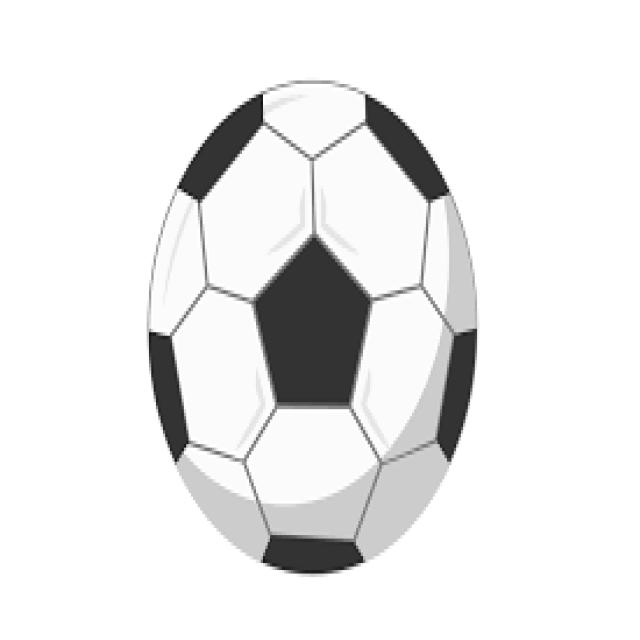football: (147, 81, 480, 574)
